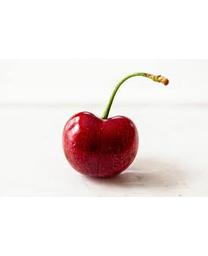cherry: (62, 112, 139, 177)
